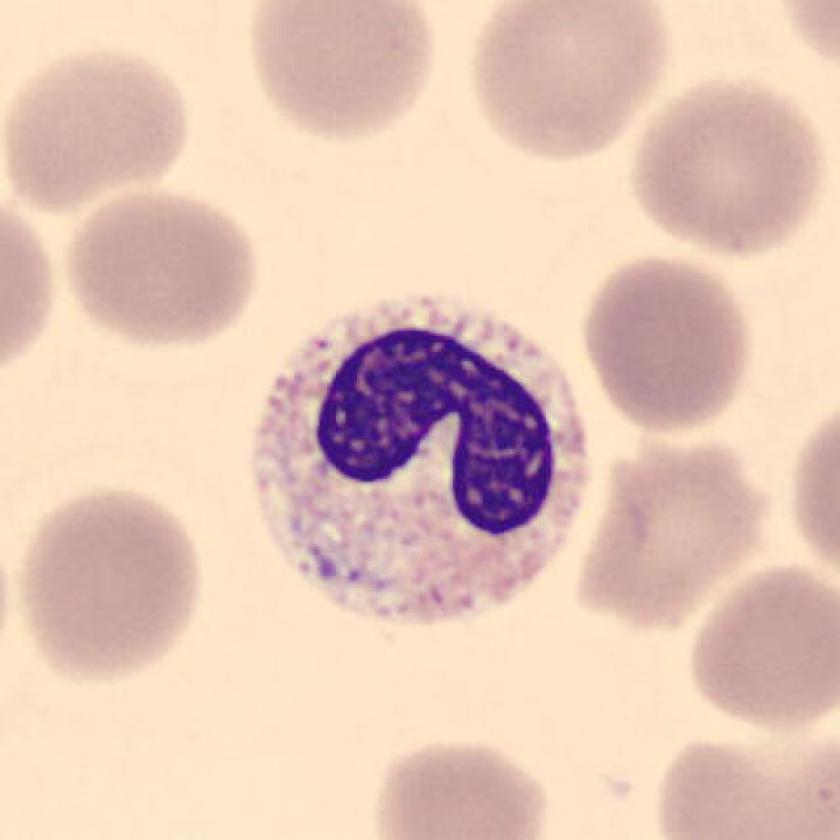neutrophil: (253, 298, 589, 621)
